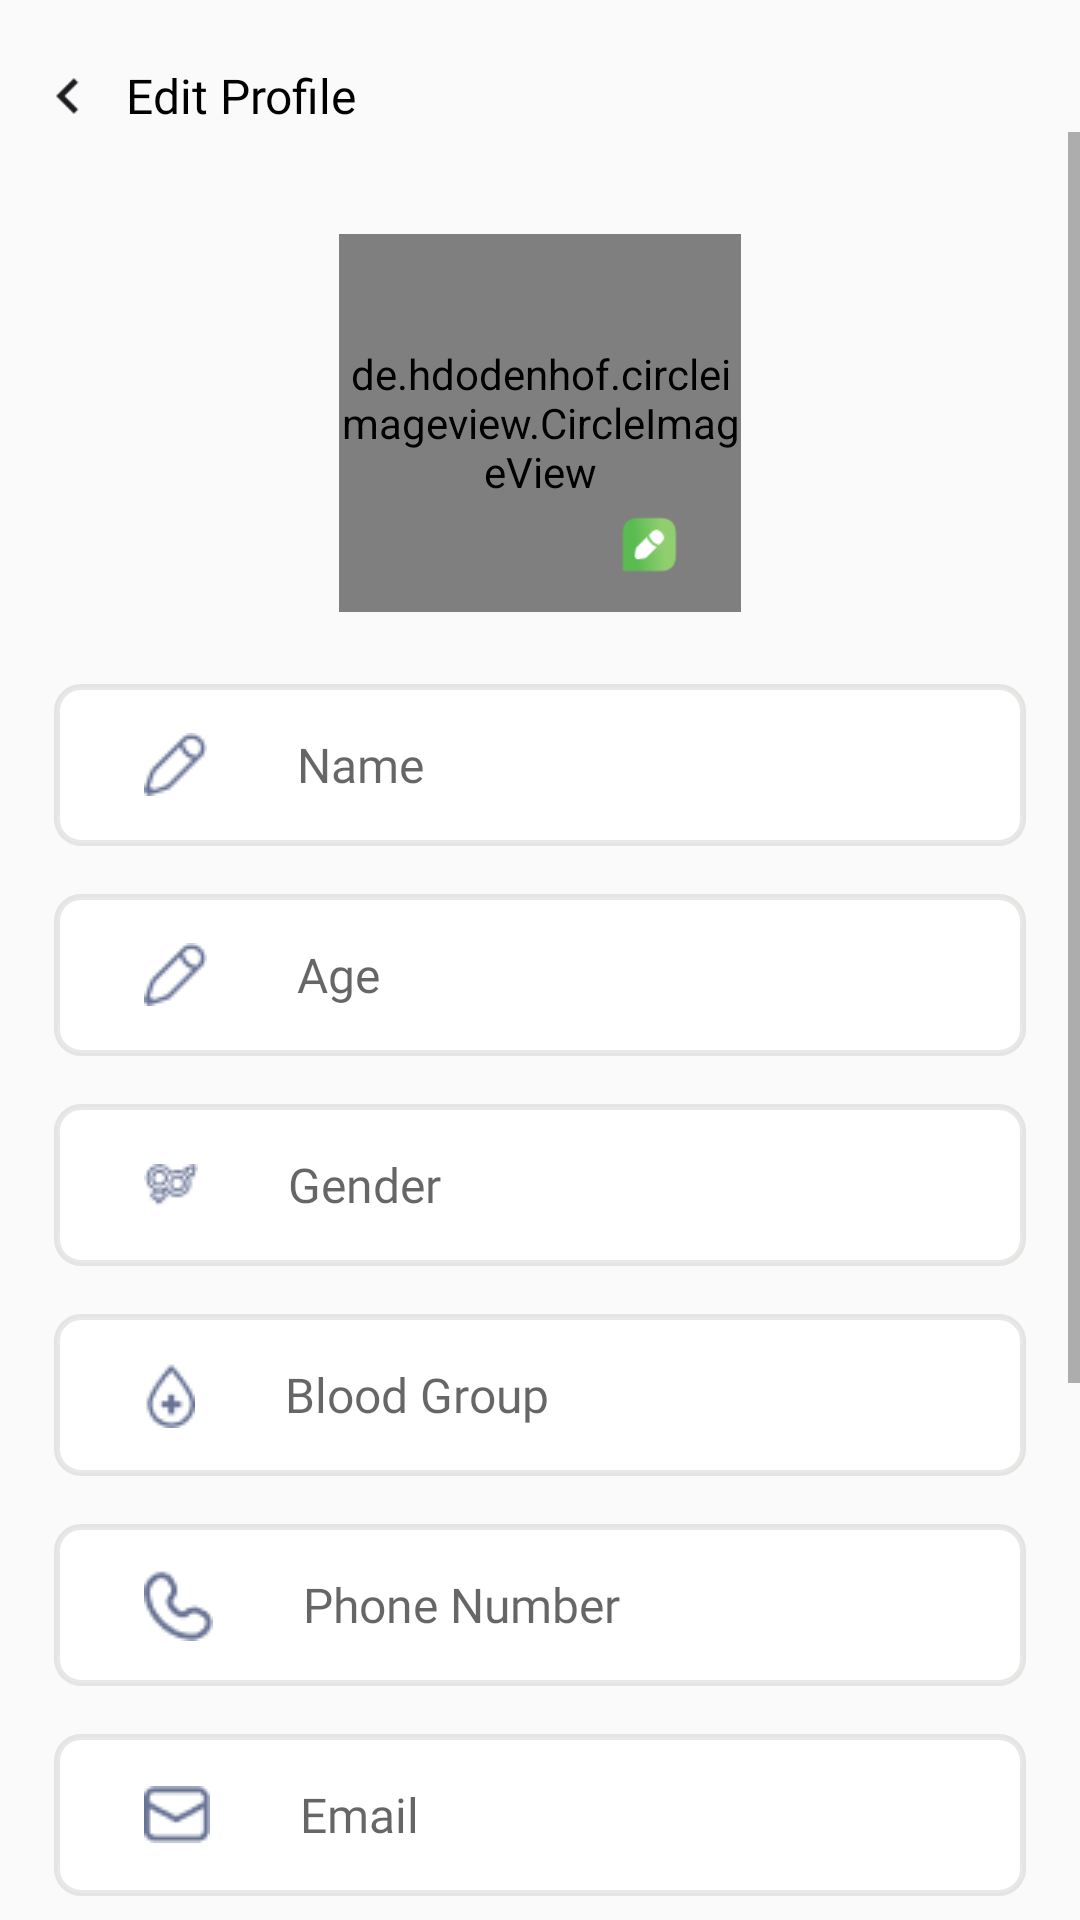

Named icons in this screenshot (1080x1920) and their centers, point (x, y):
back: point (67, 96)
edit: point (649, 545)
